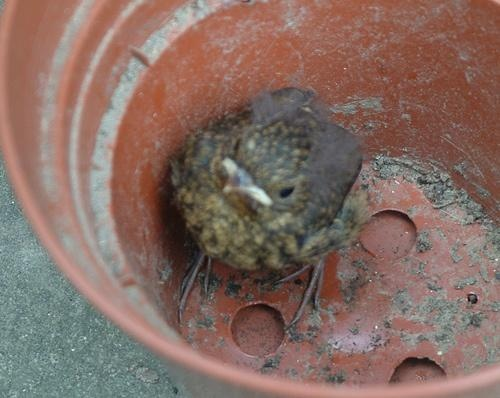bird: (160, 81, 380, 329)
